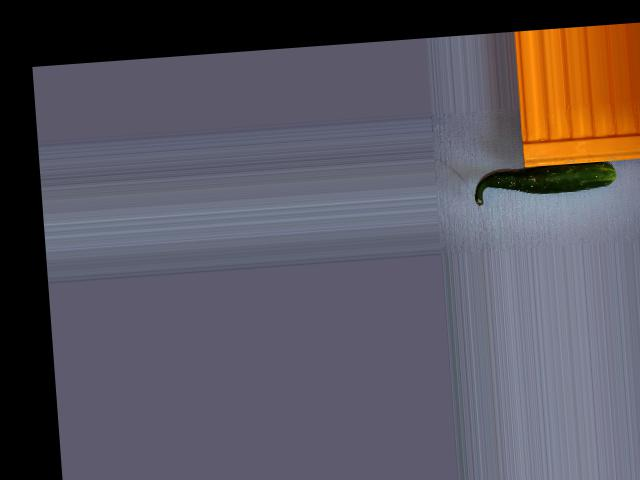cucumber: (472, 160, 616, 206)
